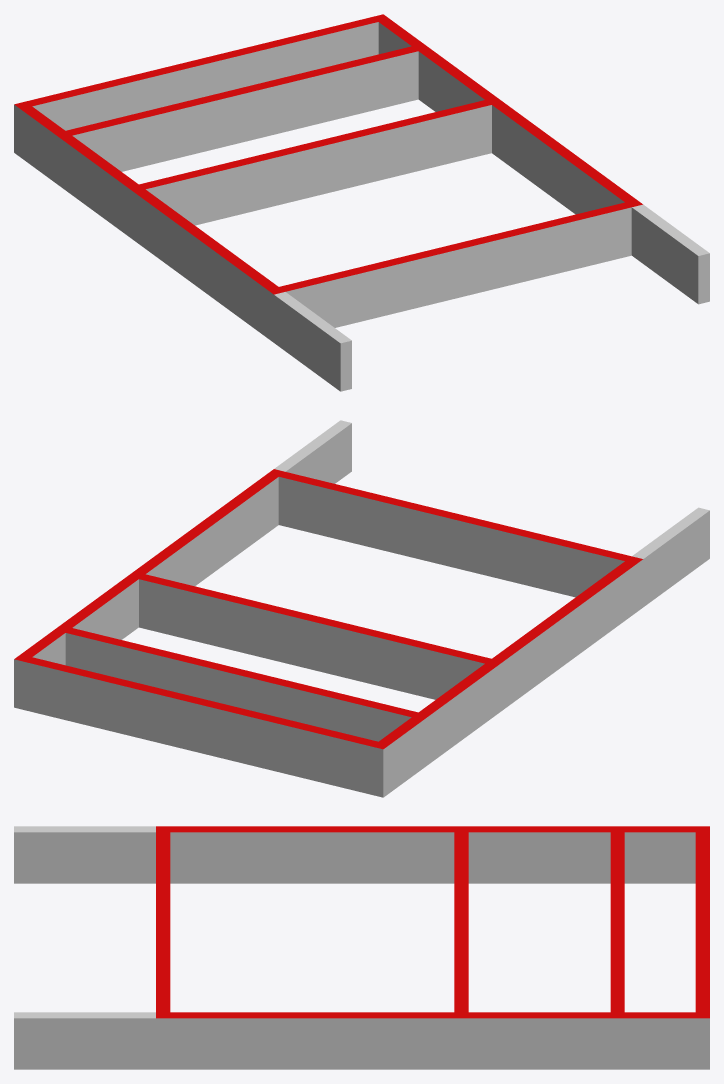
File: gate.dae
The picture shows the model from 3 angles, top to bottom: view 1: azimuth 30°, elevation 25°; view 2: azimuth 150°, elevation 25°; view 3: azimuth 270°, elevation 25°; orthographic projection. The views are drawn at different scales.
Parts seen in each view (by area): view 1: gate; view 2: gate; view 3: gate.
Boxes of the visible parts, x1,y1,x2,y2 form: gate: (14,14,709,391); gate: (14,420,709,797); gate: (14,826,709,1069).
Size of the model in its own units: 1600 by 2450 by 200.
